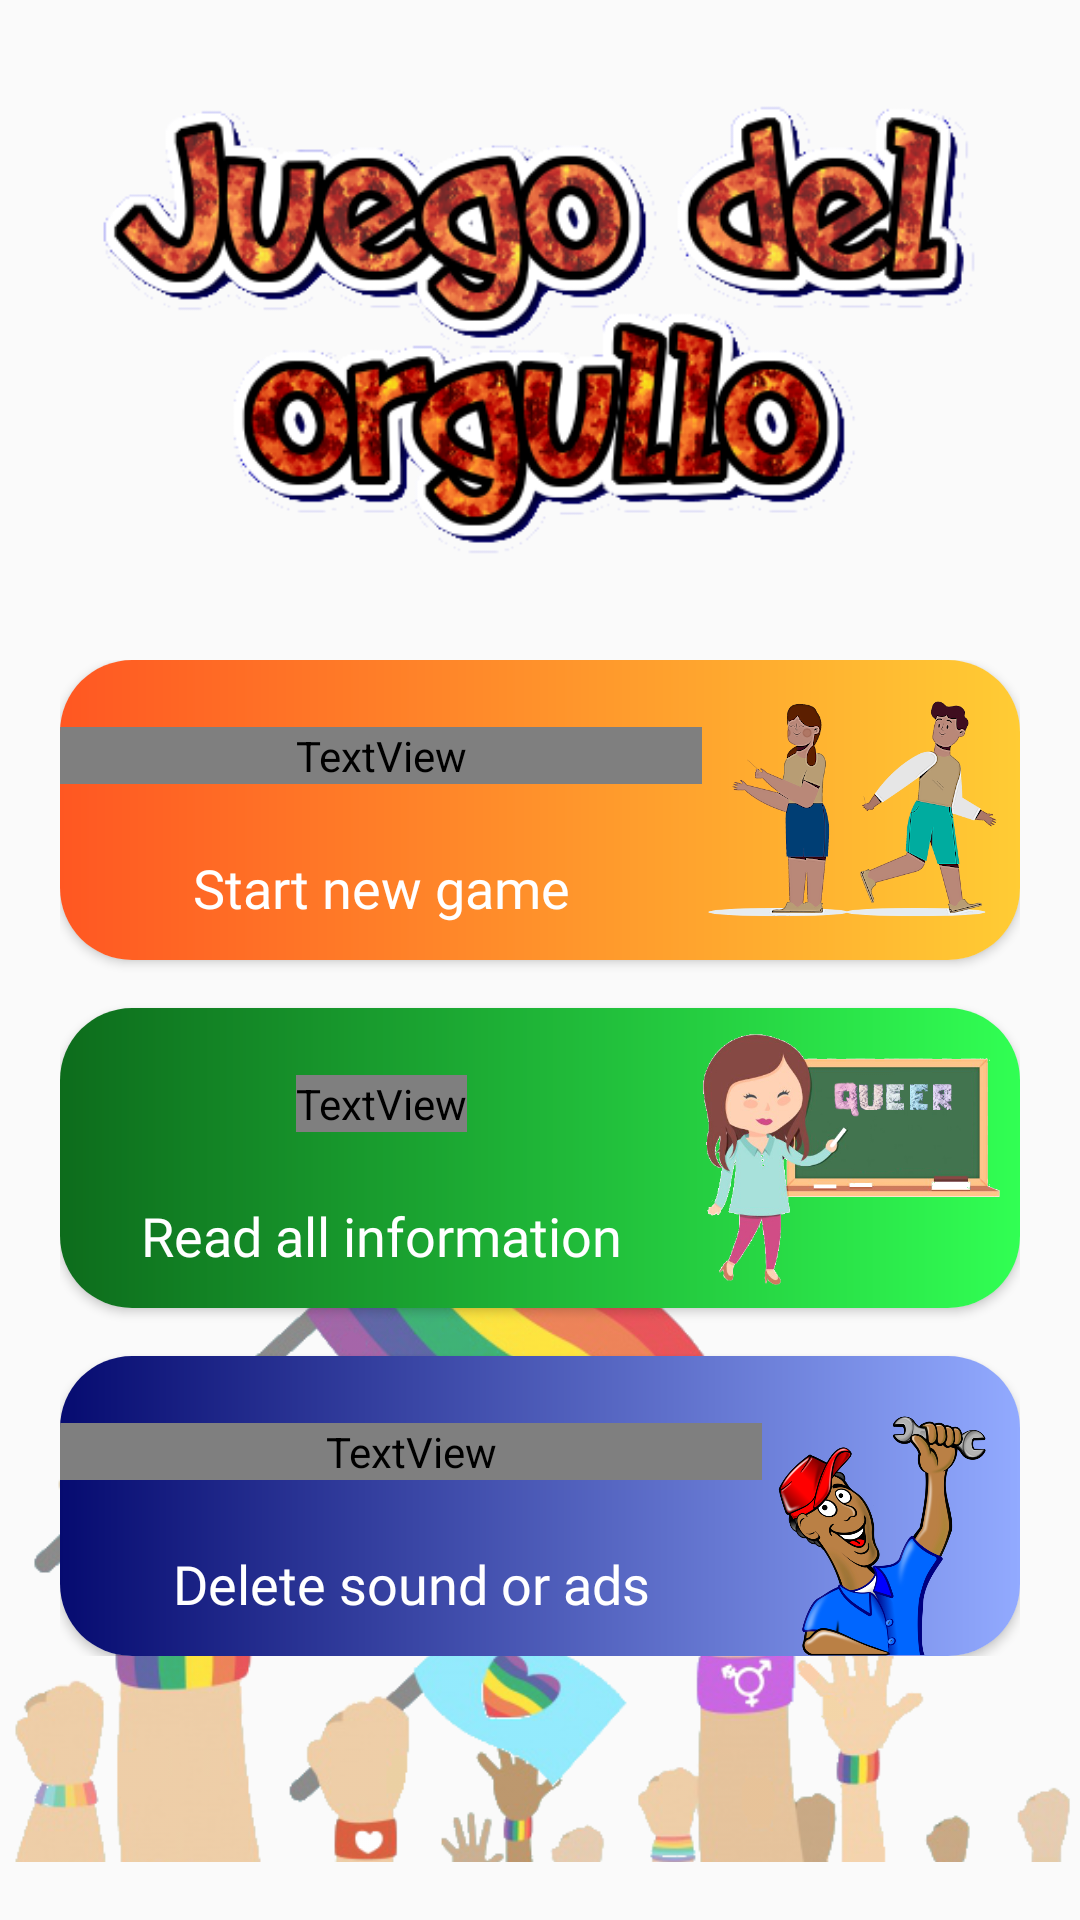

Named icons in this screenshot (1080 x 1920) and their centers, [x,y]:
learn: [852,1158]
play: [852,810]
settings: [882,1536]
